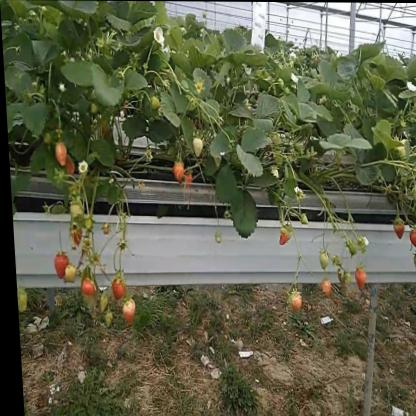ripe: (50, 254, 65, 280), (54, 144, 68, 167), (351, 268, 365, 290), (390, 217, 404, 239), (107, 280, 122, 300), (67, 226, 80, 246), (77, 278, 91, 295), (406, 227, 416, 246), (171, 164, 182, 181), (320, 280, 330, 296), (275, 233, 285, 245), (184, 174, 192, 182)
unripe: (118, 300, 133, 323), (14, 286, 26, 314), (286, 290, 300, 313), (408, 183, 416, 213), (316, 249, 328, 269), (191, 137, 202, 156), (61, 264, 73, 281), (149, 95, 161, 110), (101, 310, 109, 327), (298, 212, 308, 224), (212, 230, 220, 244), (411, 253, 416, 274), (89, 103, 96, 115), (342, 274, 348, 284), (278, 78, 283, 87)
